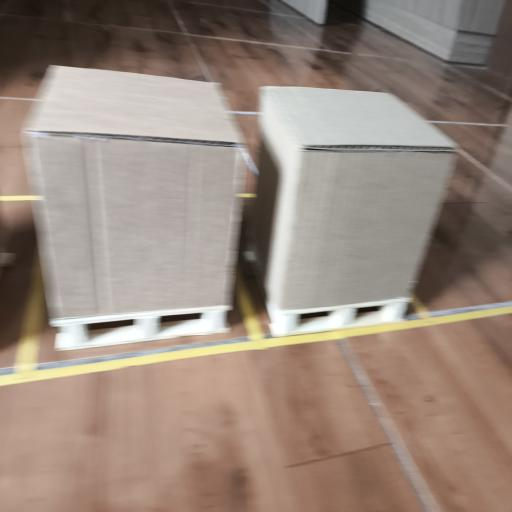pallet: (50, 307, 229, 350), (267, 298, 411, 336), (267, 298, 410, 336)
